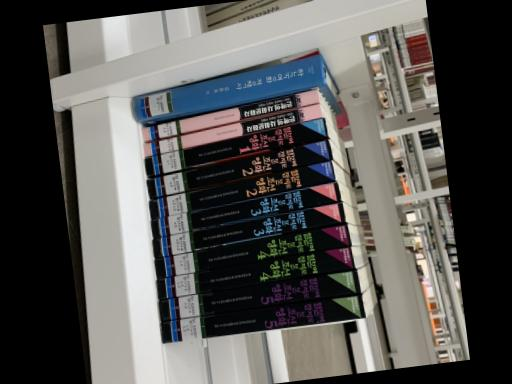book-spine: (132, 54, 326, 122), (145, 139, 332, 199), (148, 160, 335, 220), (150, 181, 341, 238), (151, 202, 345, 258), (154, 224, 351, 279), (144, 117, 327, 176), (157, 269, 360, 322), (155, 246, 355, 299), (160, 293, 365, 343), (142, 103, 321, 157), (140, 90, 318, 141)
